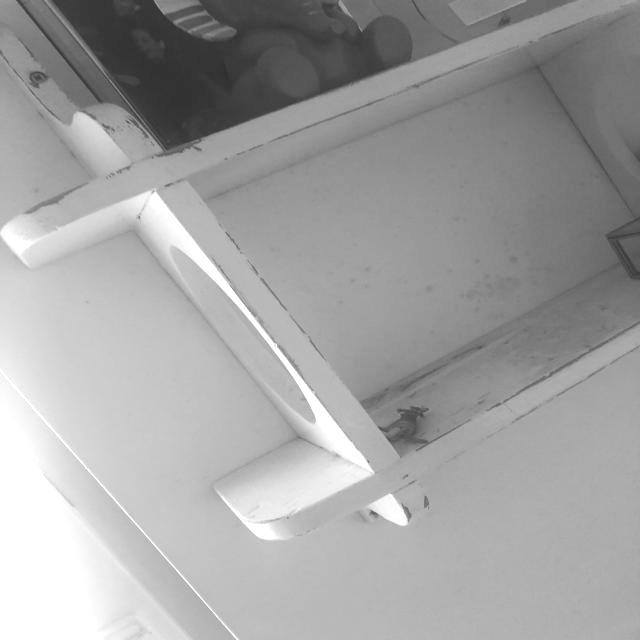stain marks: (307, 71, 640, 453), (170, 228, 309, 399), (12, 125, 209, 231), (0, 24, 136, 124), (372, 469, 451, 527), (217, 488, 309, 532)
